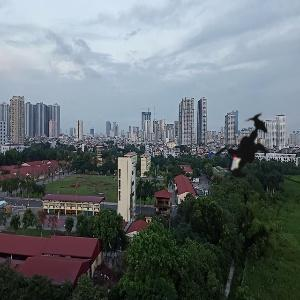drone: (192, 94, 295, 197)
